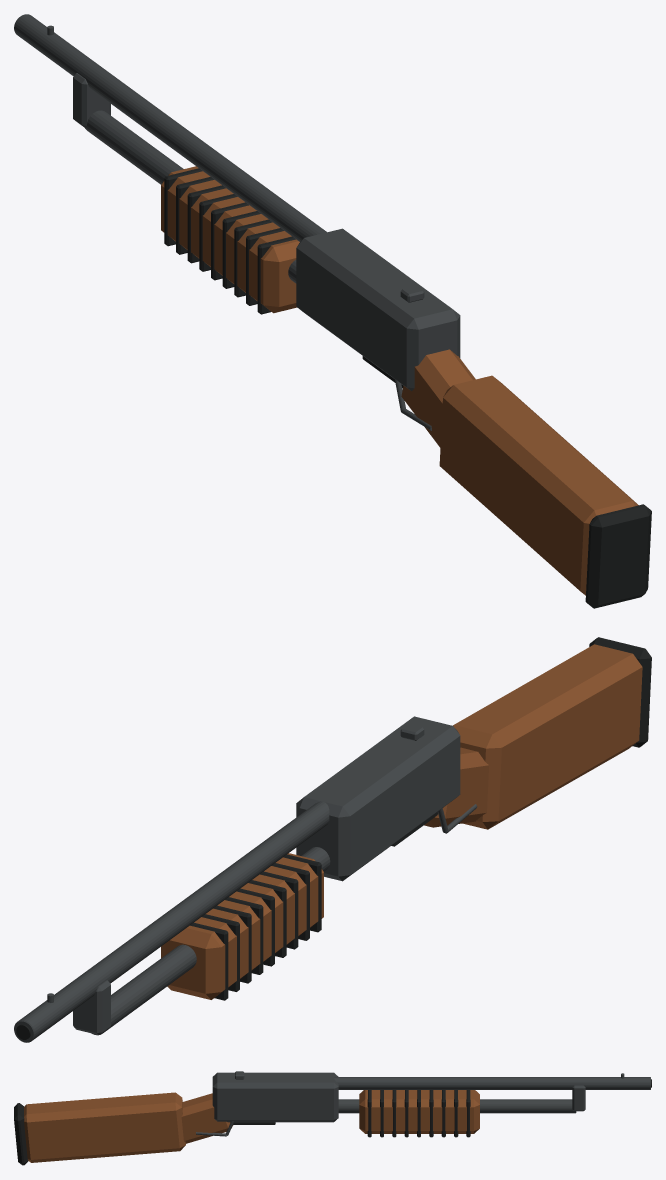
The model's file is shotgun.glb.
3 renders of one model, top to bottom at view 1: azimuth 30°, elevation 25°; view 2: azimuth 150°, elevation 25°; view 3: azimuth 270°, elevation 25°, orthographic. The views are drawn at different scales.
Visible parts, largest first — view 1: shotgun; view 2: shotgun; view 3: shotgun.
Boxes of the visible parts, x1,y1,x2,y2 form: shotgun: (14, 14, 651, 608); shotgun: (14, 637, 651, 1042); shotgun: (14, 1071, 651, 1165).
Size of the model in its own units: 0.074 by 0.185 by 1.24.
